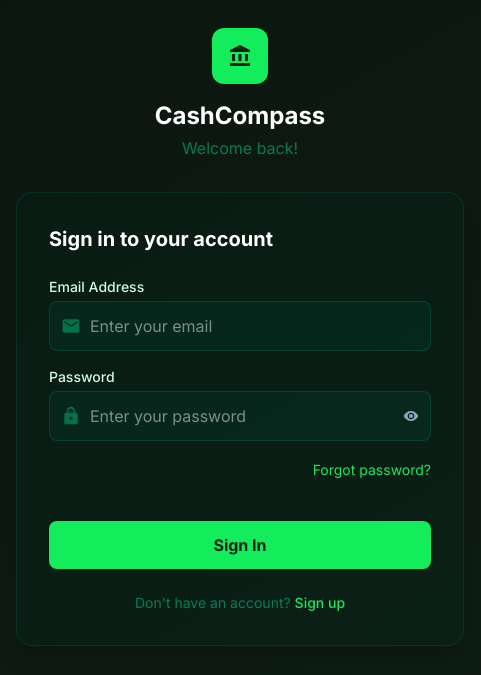
Test: Login Component › shows password validation error for short password
Type "test@example.com" into the field with placeholder "Enter your email" at (240, 326), box top-left (49, 301), bottom-right (431, 351)
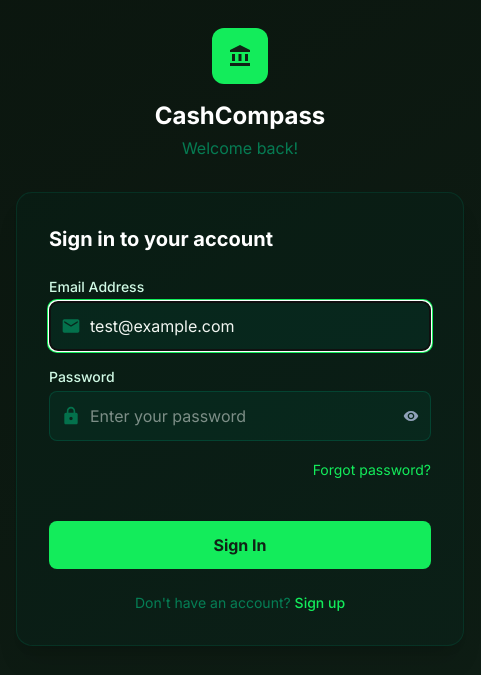
Type "12345" into the password field with placeholder "Enter your password" at (240, 416), box top-left (49, 391), bottom-right (431, 441)
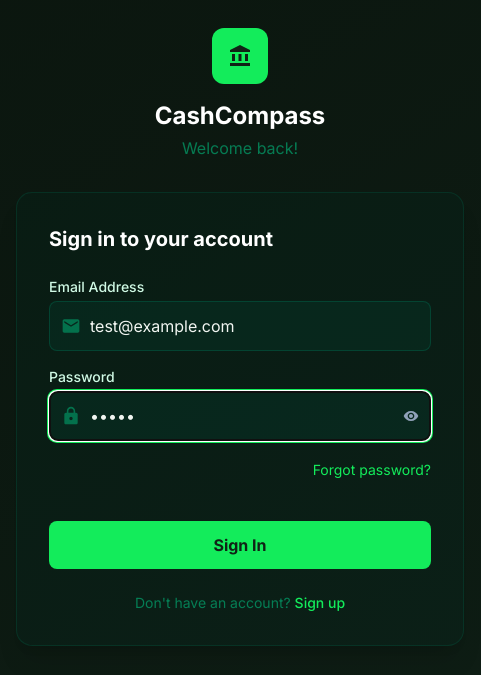
Submit the form "Email Address Password Forgot password? Sign In", box top-left (49, 277), bottom-right (431, 569)
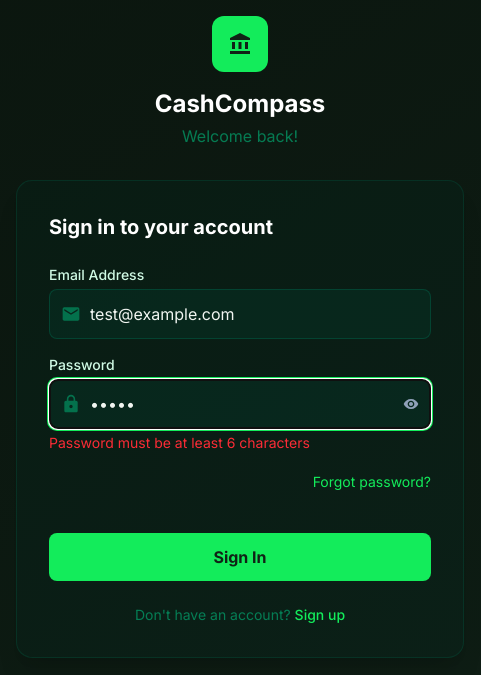
expect the text "Password must be at least 6 characters" is shown: met, box top-left (49, 434), bottom-right (310, 451)
